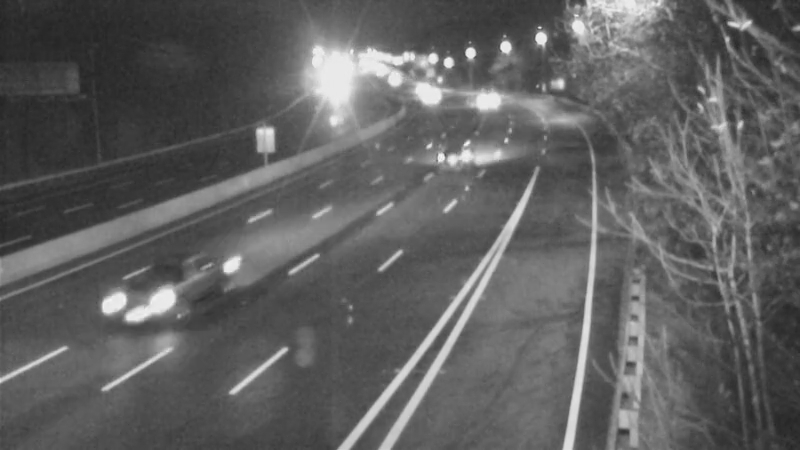vehicle: (85, 252, 195, 362), (409, 118, 489, 198), (393, 60, 443, 110), (403, 72, 453, 122), (458, 76, 508, 126)
